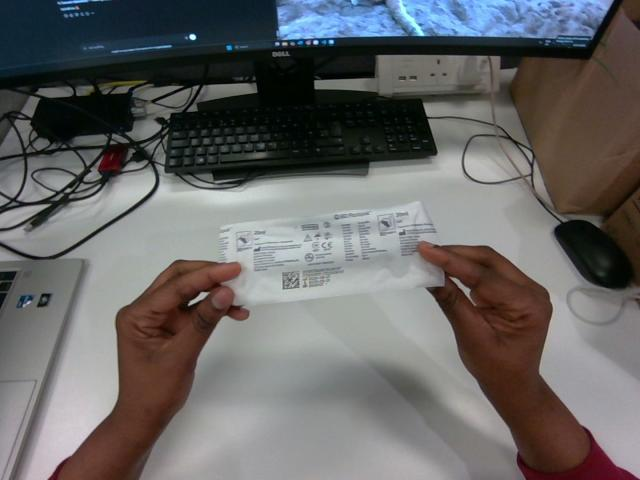syringe: (220, 202, 443, 305)
